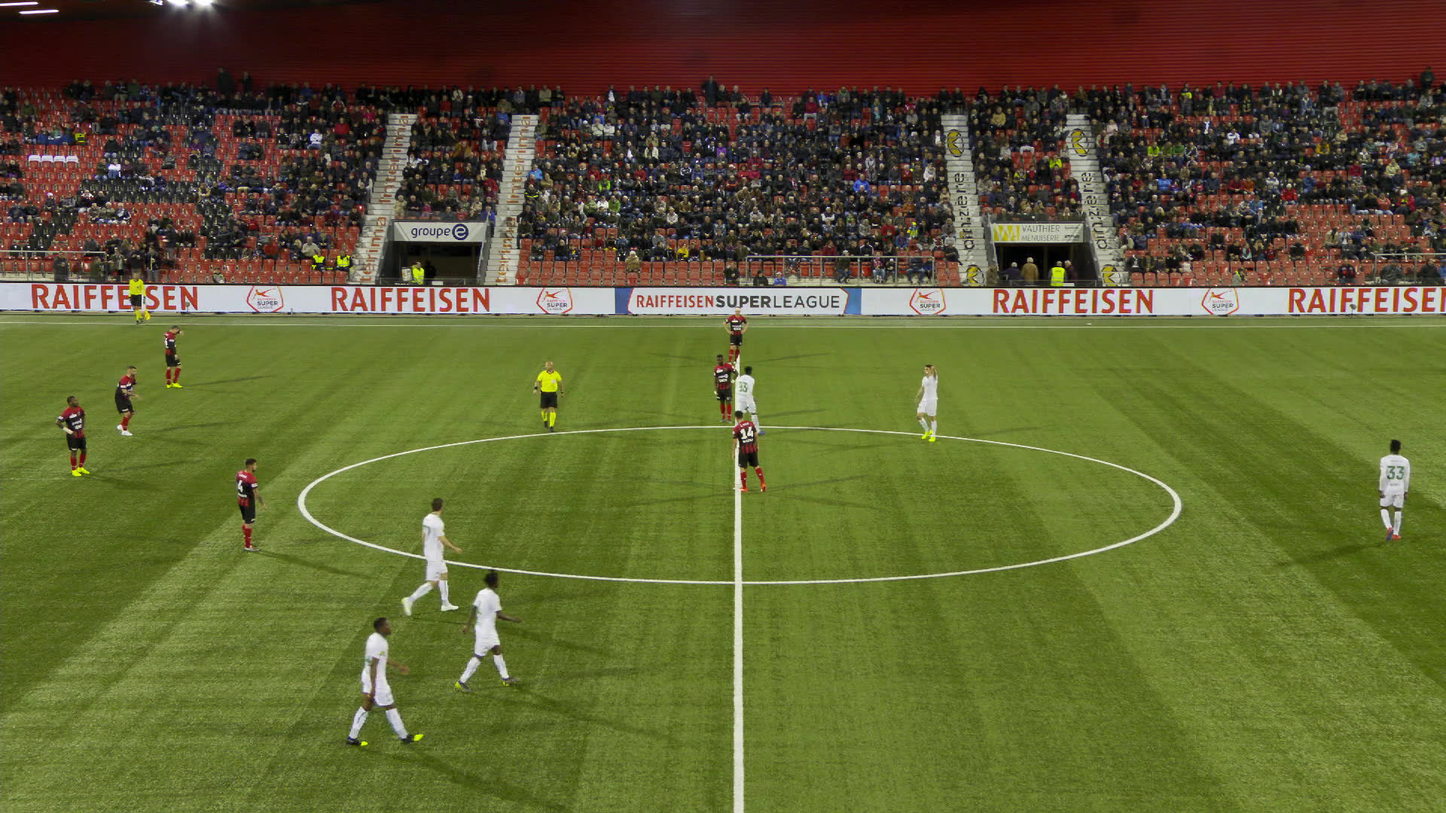player: (346, 614, 404, 748), (404, 495, 460, 615), (461, 565, 510, 690), (1374, 438, 1411, 544), (730, 409, 767, 492), (233, 456, 264, 553), (54, 394, 90, 476), (907, 364, 938, 442), (113, 365, 143, 436), (734, 365, 761, 437), (712, 352, 739, 422), (721, 306, 749, 365), (163, 324, 185, 389)
referee: (534, 359, 564, 433), (128, 270, 151, 324)
